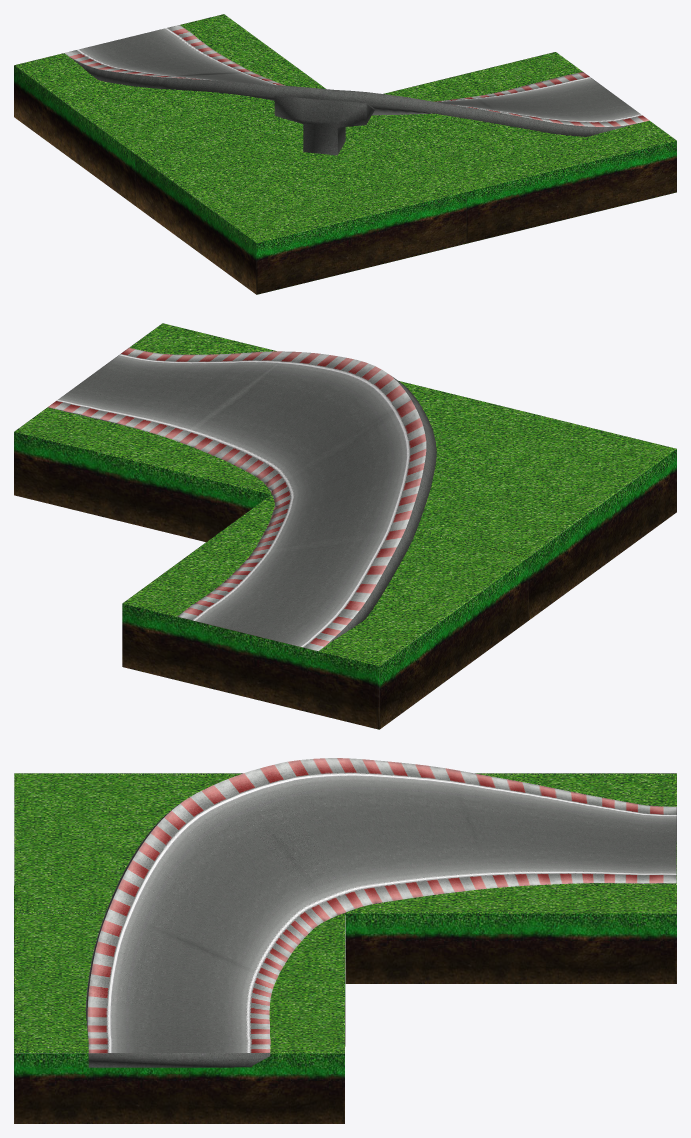
Rendered from peralte minor curve .fbx.
The picture shows the model from 3 angles, top to bottom: view 1: azimuth 30°, elevation 25°; view 2: azimuth 150°, elevation 25°; view 3: azimuth 270°, elevation 25°; orthographic projection. The views are drawn at different scales.
Visible parts, largest first — view 1: peralte curve; view 2: peralte curve; view 3: peralte curve.
Part boxes in pixels (x1,y1,x2,y2): peralte curve: [14, 14, 676, 294]; peralte curve: [14, 323, 676, 729]; peralte curve: [14, 758, 676, 1123].
Size of the model in its own units: 780 by 205 by 780.
